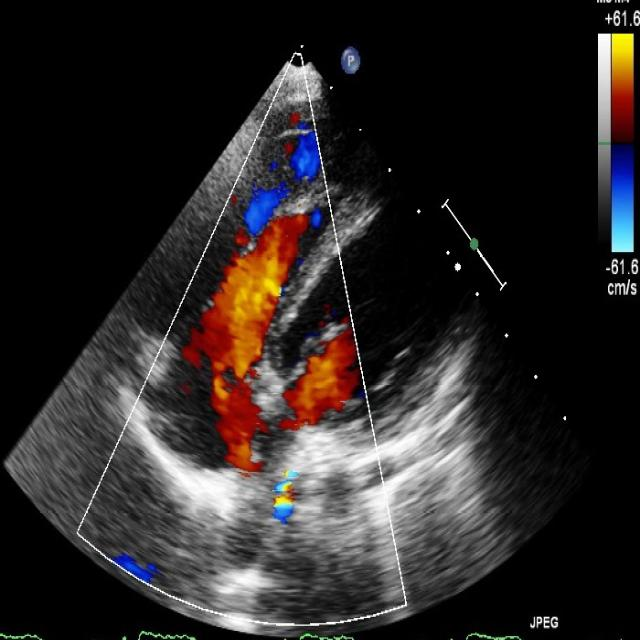ASDType2: (216, 316, 366, 481)
